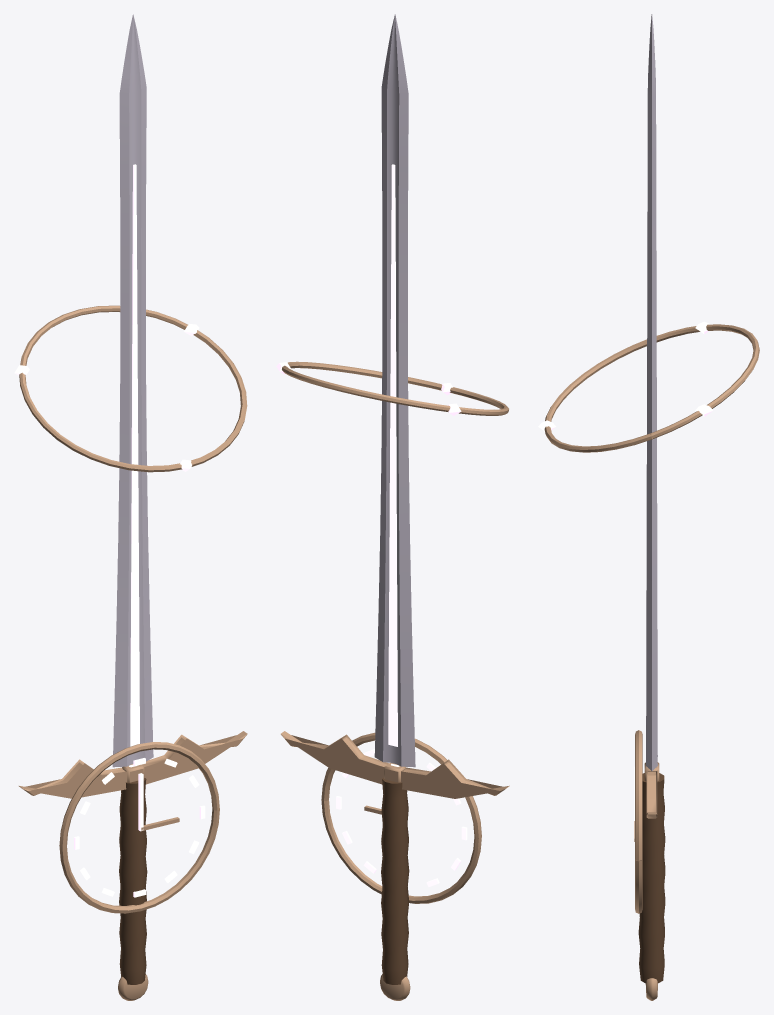
File: fa_aeons_patience.glb
3 views of the same model, side by side, from view 1: azimuth 30°, elevation 25°; view 2: azimuth 150°, elevation 25°; view 3: azimuth 270°, elevation 25° (orthographic).
Visible parts, largest first — view 1: fa_aeons_patience; view 2: fa_aeons_patience; view 3: fa_aeons_patience.
Part boxes in pixels (x1,y1,x2,y2): fa_aeons_patience: (14, 14, 247, 1000); fa_aeons_patience: (276, 14, 509, 1000); fa_aeons_patience: (538, 14, 759, 1000).
Bounding box in the file's own units: 0.397 × 1.66 × 0.3389.
